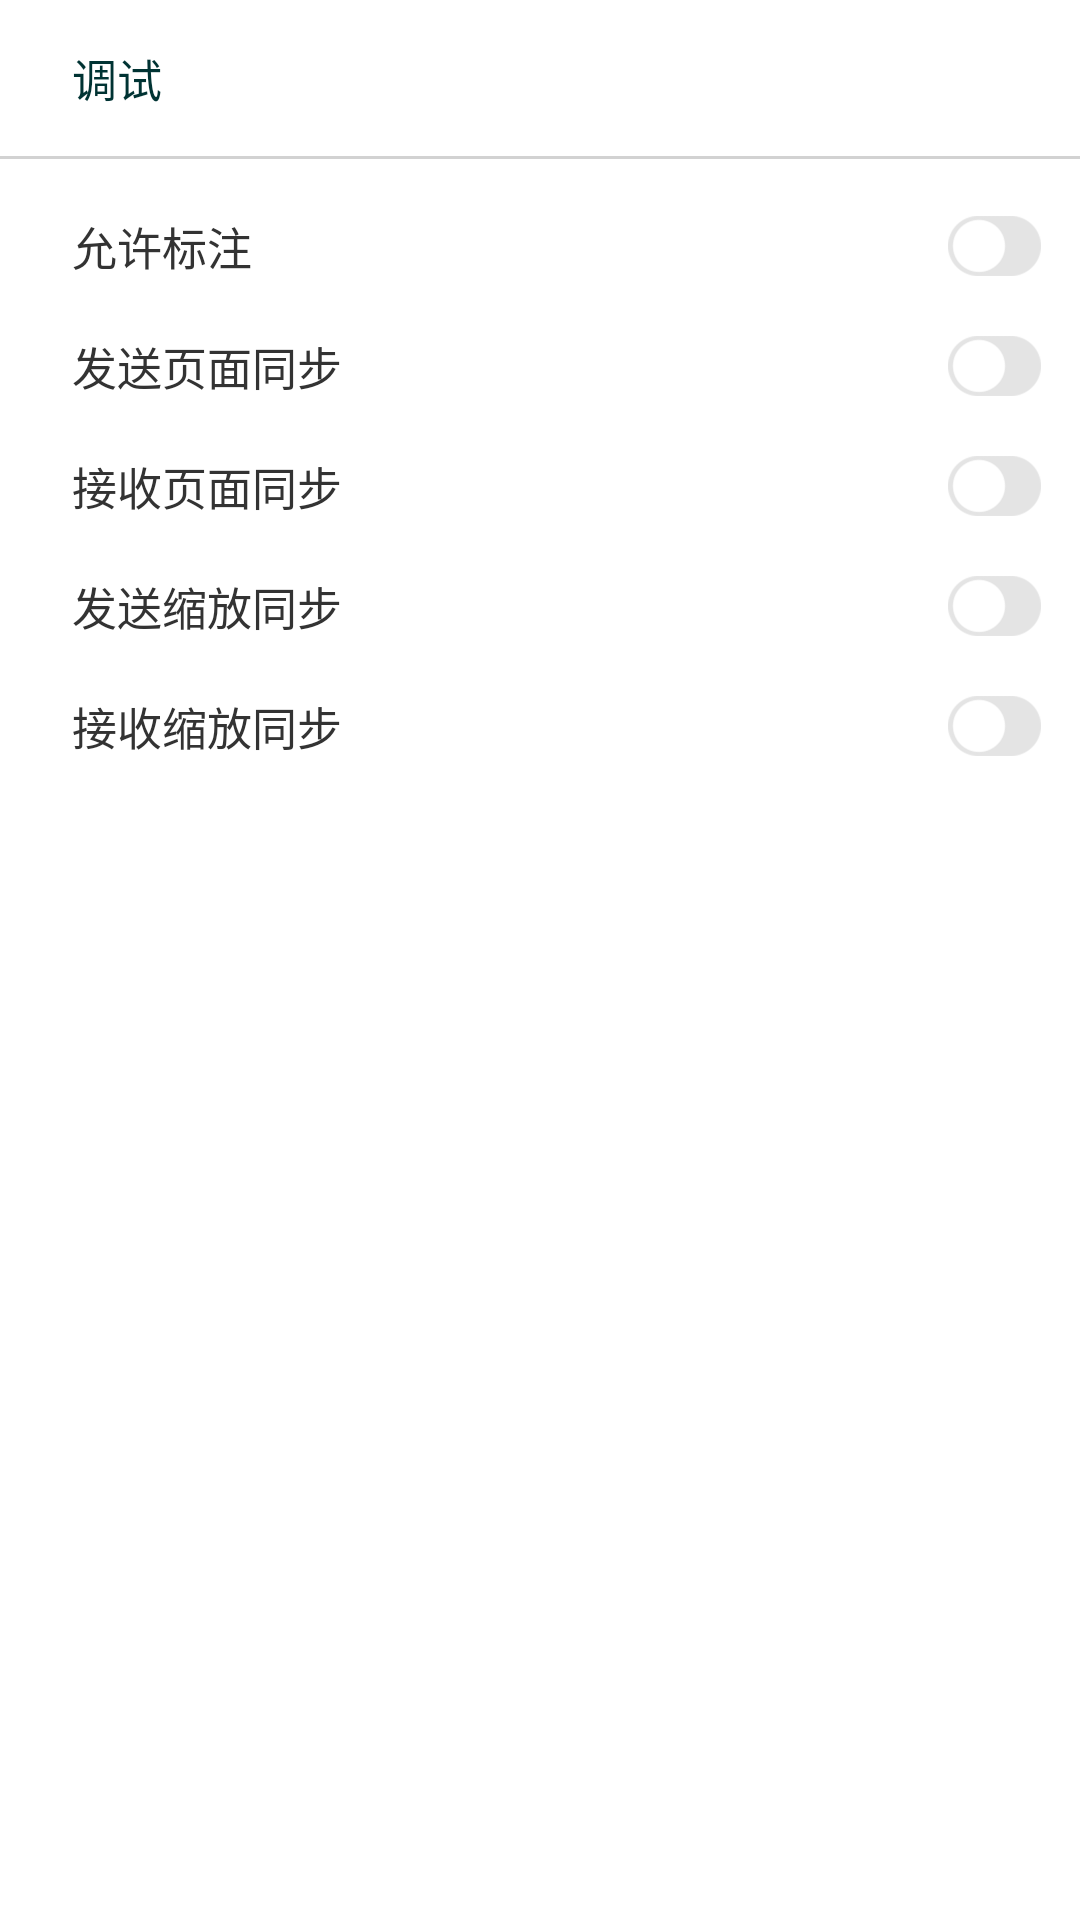

Named icons in this screenshot (1080 x 1920) and their bounding boxes, (x1, y1, x2, y2):
switch off: (948, 216, 1041, 276), (948, 336, 1041, 396), (948, 456, 1041, 516), (948, 576, 1041, 636), (948, 696, 1041, 756)
